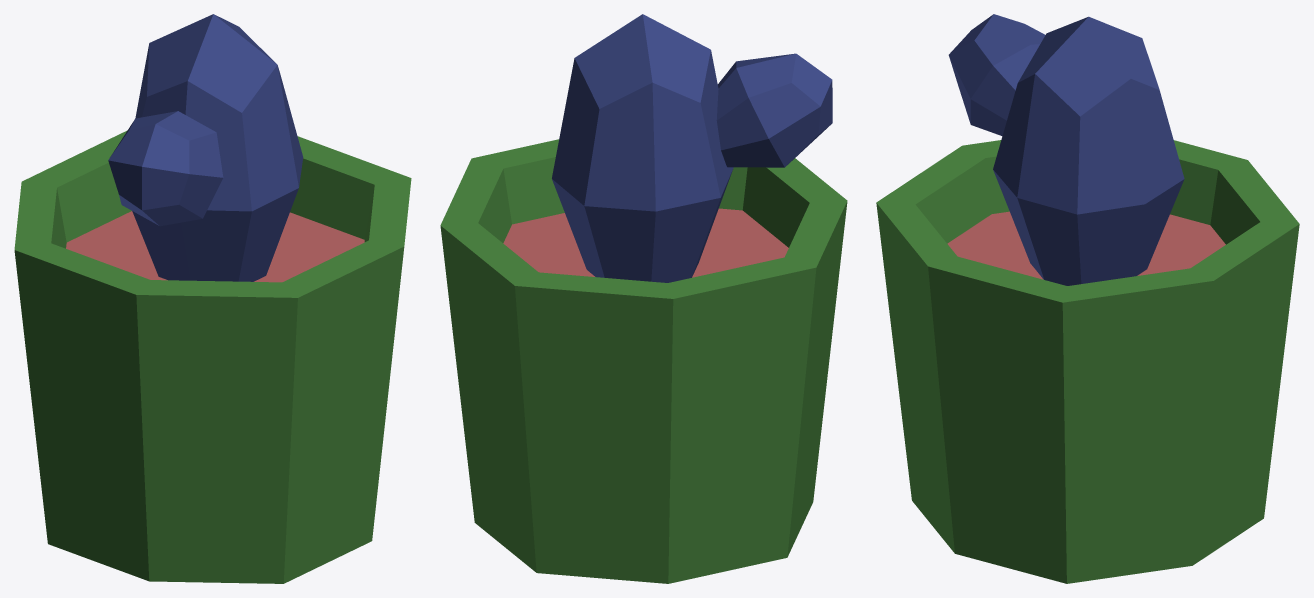
The model's file is Kitchen_Plant4.fbx.
3 views of the same model, side by side, from view 1: azimuth 30°, elevation 25°; view 2: azimuth 150°, elevation 25°; view 3: azimuth 270°, elevation 25° (orthographic).
Parts seen in each view (by area): view 1: Kitchen_Plant4; view 2: Kitchen_Plant4; view 3: Kitchen_Plant4.
Part boxes in pixels (<box>): Kitchen_Plant4: <box>14,14,411,583</box>; Kitchen_Plant4: <box>440,14,847,583</box>; Kitchen_Plant4: <box>876,14,1299,583</box>.
Bounding box in the file's own units: 21.6 × 27.77 × 21.6.
